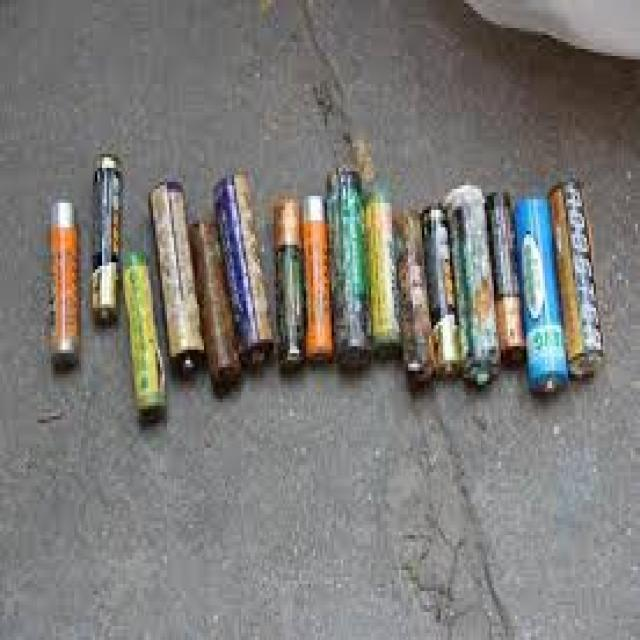Battery: (446, 176, 504, 388), (142, 177, 204, 370), (212, 177, 276, 362), (554, 174, 614, 370), (118, 235, 172, 423), (519, 182, 559, 401), (321, 164, 363, 364), (190, 215, 238, 381), (363, 180, 401, 364), (489, 189, 528, 364), (394, 202, 430, 383), (43, 188, 77, 379), (96, 144, 124, 344), (428, 197, 456, 379), (276, 194, 304, 367), (302, 194, 328, 359)
